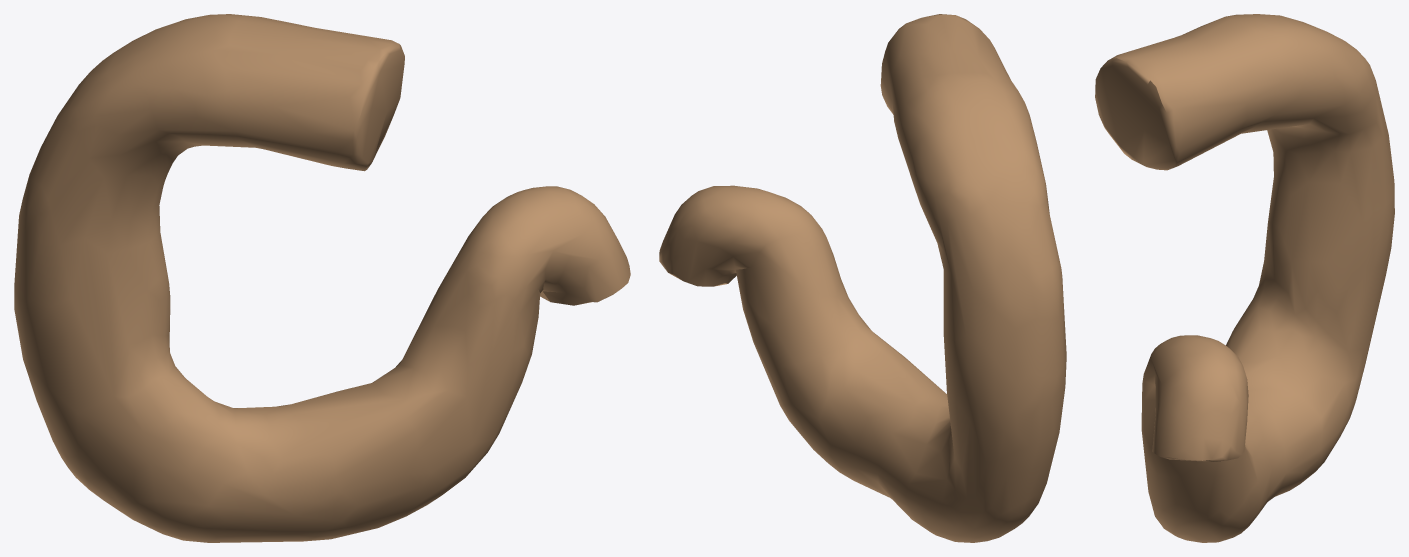
The model's file is duodenum.glb.
3 renders of one model, left to right at view 1: azimuth 30°, elevation 25°; view 2: azimuth 150°, elevation 25°; view 3: azimuth 270°, elevation 25°, orthographic. The views are drawn at different scales.
Parts seen in each view (by area): view 1: duodenum; view 2: duodenum; view 3: duodenum.
Part boxes in pixels (x1,y1,x2,y2): duodenum: (14,14,630,542); duodenum: (659,14,1066,542); duodenum: (1095,14,1394,542).
Bounding box in the file's own units: 0.098 × 0.0915 × 0.053.
